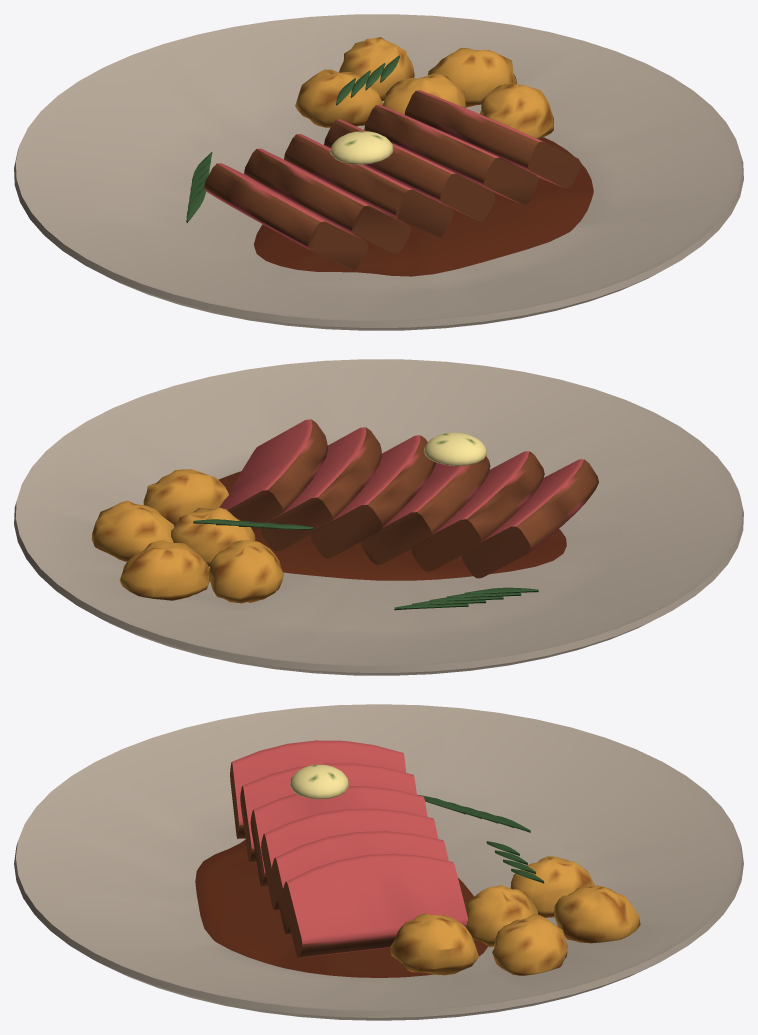
Rendered from dish-ribeye-lod0.glb.
The picture shows the model from 3 angles, top to bottom: view 1: azimuth 30°, elevation 25°; view 2: azimuth 150°, elevation 25°; view 3: azimuth 270°, elevation 25°; orthographic projection.
Parts seen in each view (by area): view 1: ribeye.lod0__table warm glaze, ribeye.lod0__food, ribeye.lod0__food glaze; view 2: ribeye.lod0__table warm glaze, ribeye.lod0__food, ribeye.lod0__food glaze; view 3: ribeye.lod0__table warm glaze, ribeye.lod0__food, ribeye.lod0__food glaze.
Boxes of the visible parts, left/top/right/bottom form: ribeye.lod0__table warm glaze: left=14, top=14, right=743, bottom=330; ribeye.lod0__food: left=186, top=37, right=580, bottom=270; ribeye.lod0__food glaze: left=254, top=131, right=593, bottom=276; ribeye.lod0__table warm glaze: left=14, top=359, right=743, bottom=675; ribeye.lod0__food: left=91, top=419, right=598, bottom=610; ribeye.lod0__food glaze: left=218, top=432, right=566, bottom=580; ribeye.lod0__table warm glaze: left=14, top=704, right=743, bottom=1020; ribeye.lod0__food: left=230, top=740, right=640, bottom=975; ribeye.lod0__food glaze: left=195, top=764, right=487, bottom=977.
Bounding box in the file's own units: 0.27 × 0.05 × 0.27.
